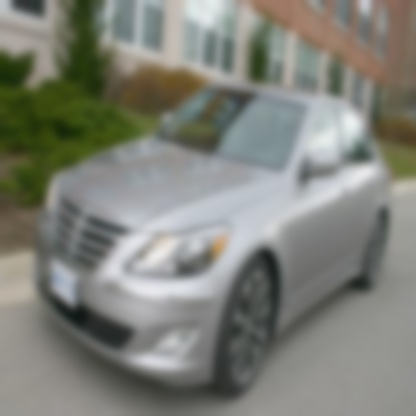Vehicle: (33, 83, 394, 393)
